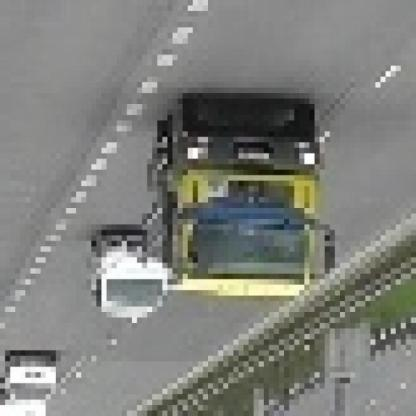truck: (143, 111, 341, 303)
